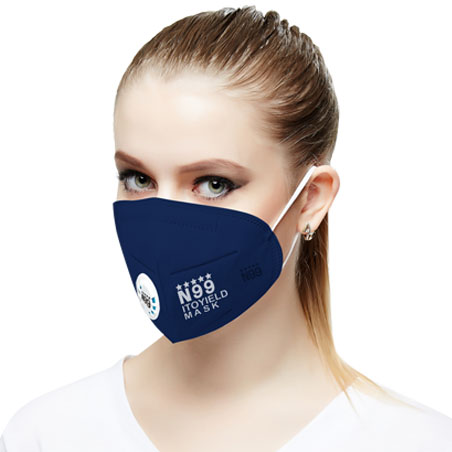face_mask: (114, 76, 277, 342)
